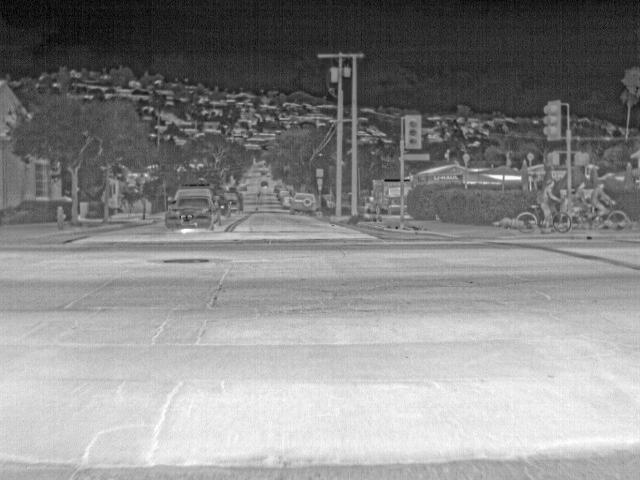car: (164, 184, 222, 230), (370, 176, 400, 215), (291, 191, 314, 216), (214, 190, 232, 220), (230, 189, 244, 213), (282, 196, 295, 209), (275, 190, 289, 202), (237, 181, 251, 192), (273, 182, 285, 194), (258, 179, 270, 190)
person: (538, 178, 556, 229), (590, 179, 605, 219), (575, 181, 589, 213)
